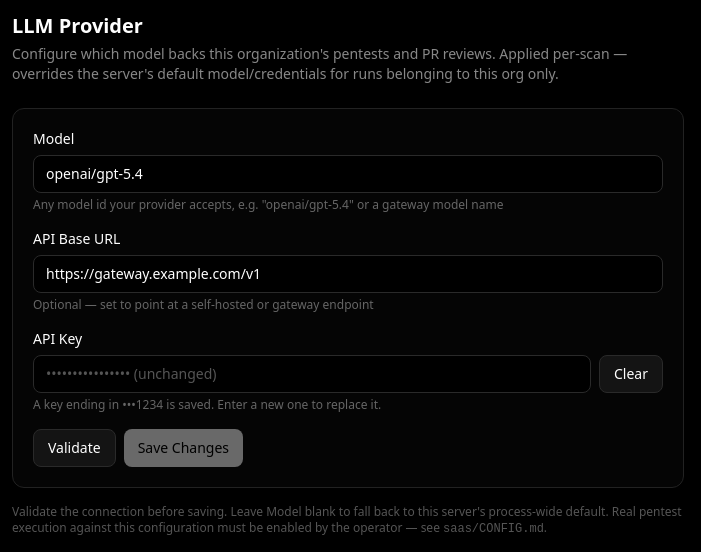
LlmProviderSettings › clears the saved key
This screenshot has width=701, height=552.
Click the button "Clear": (631, 374) x1=599 y1=355 x2=663 y2=393
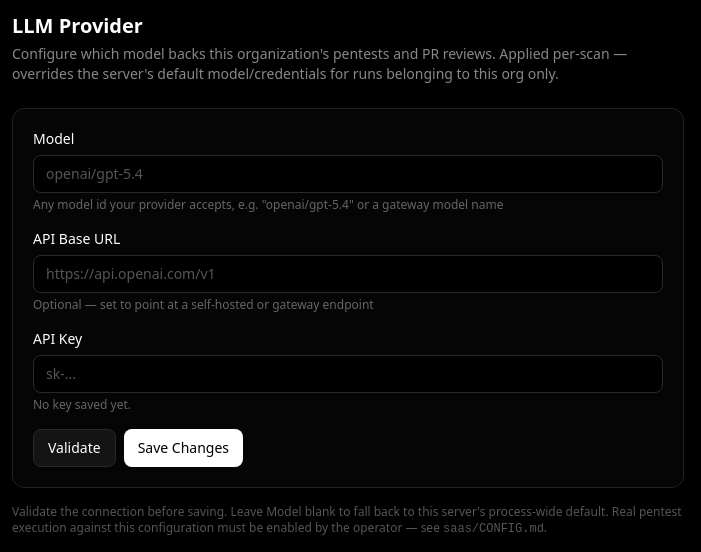
Now the text "No key saved yet." is shown, box x1=33 y1=396 x2=131 y2=413
